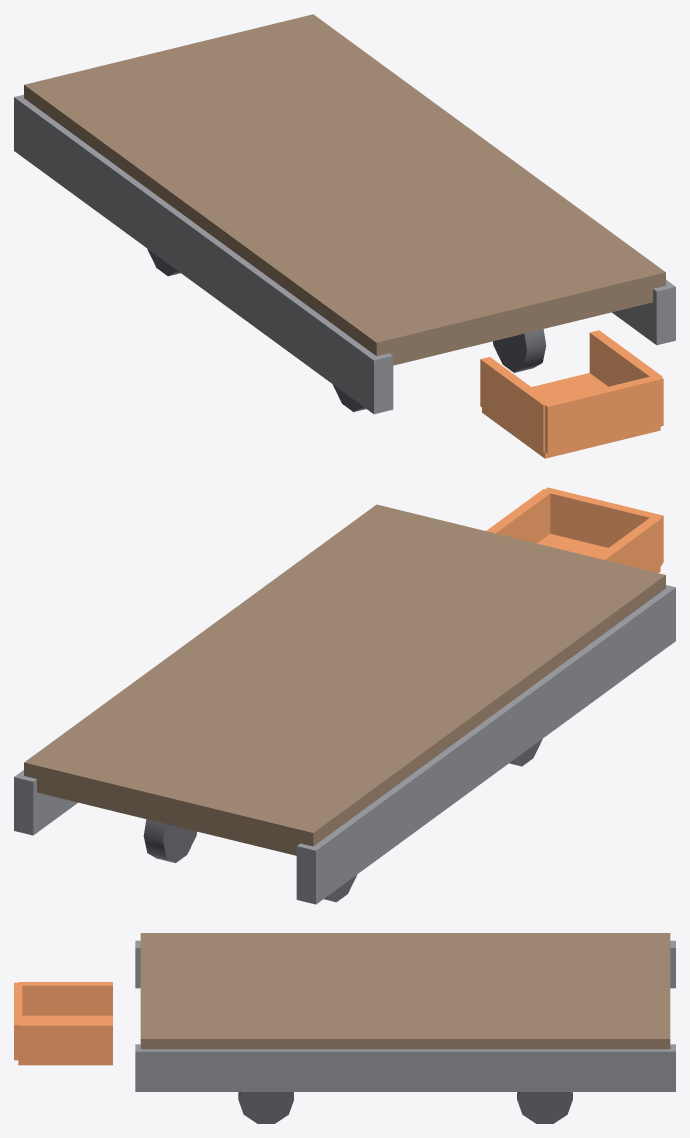
The model's file is build_minecart_2.glb.
3 renders of one model, top to bottom at view 1: azimuth 30°, elevation 25°; view 2: azimuth 150°, elevation 25°; view 3: azimuth 270°, elevation 25°, orthographic. The views are drawn at different scales.
Visible parts, largest first — view 1: Baked; view 2: Baked; view 3: Baked.
Boxes of the visible parts, bbox=[...] form: Baked: bbox=[14, 14, 675, 458]; Baked: bbox=[14, 487, 675, 904]; Baked: bbox=[14, 933, 675, 1123].
Bounding box in the file's own units: 0.94 × 0.4151 × 2.38.
